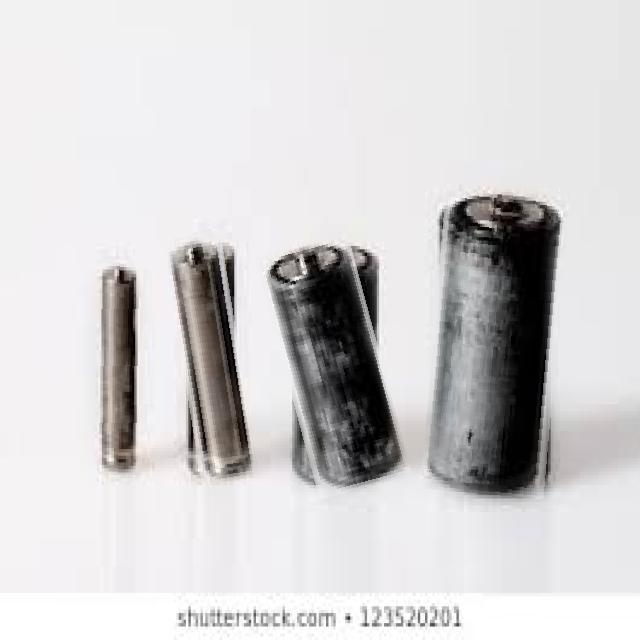Battery: (252, 225, 418, 503), (421, 200, 566, 510), (148, 220, 271, 484), (88, 225, 147, 476)
